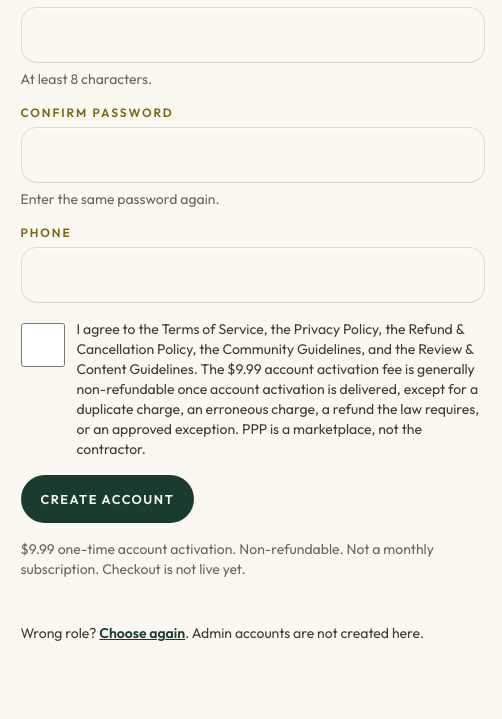
Scenario: signup screens › shows inline field errors instead of submitting an empty customer form
(page scrolled)
What coordinates should you click on to do the following:
click the button "Create account"
I would click on:
 (107, 499)
Its box is [20, 475, 194, 523].
(page scrolled)
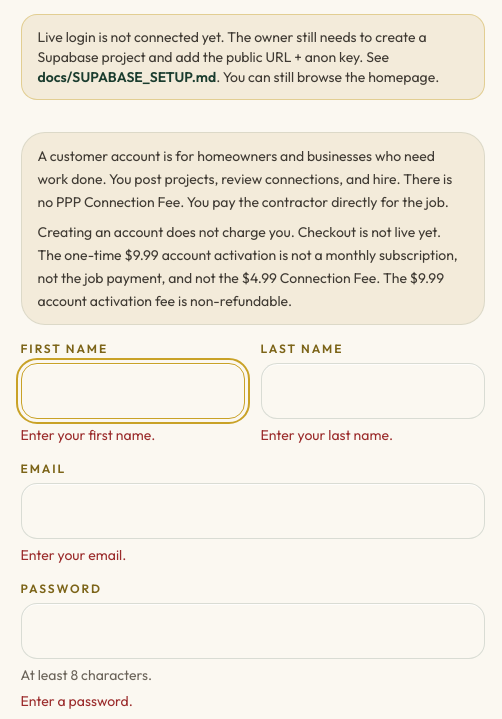
Now the text "Enter your first name." is shown, box [20, 426, 155, 444]
